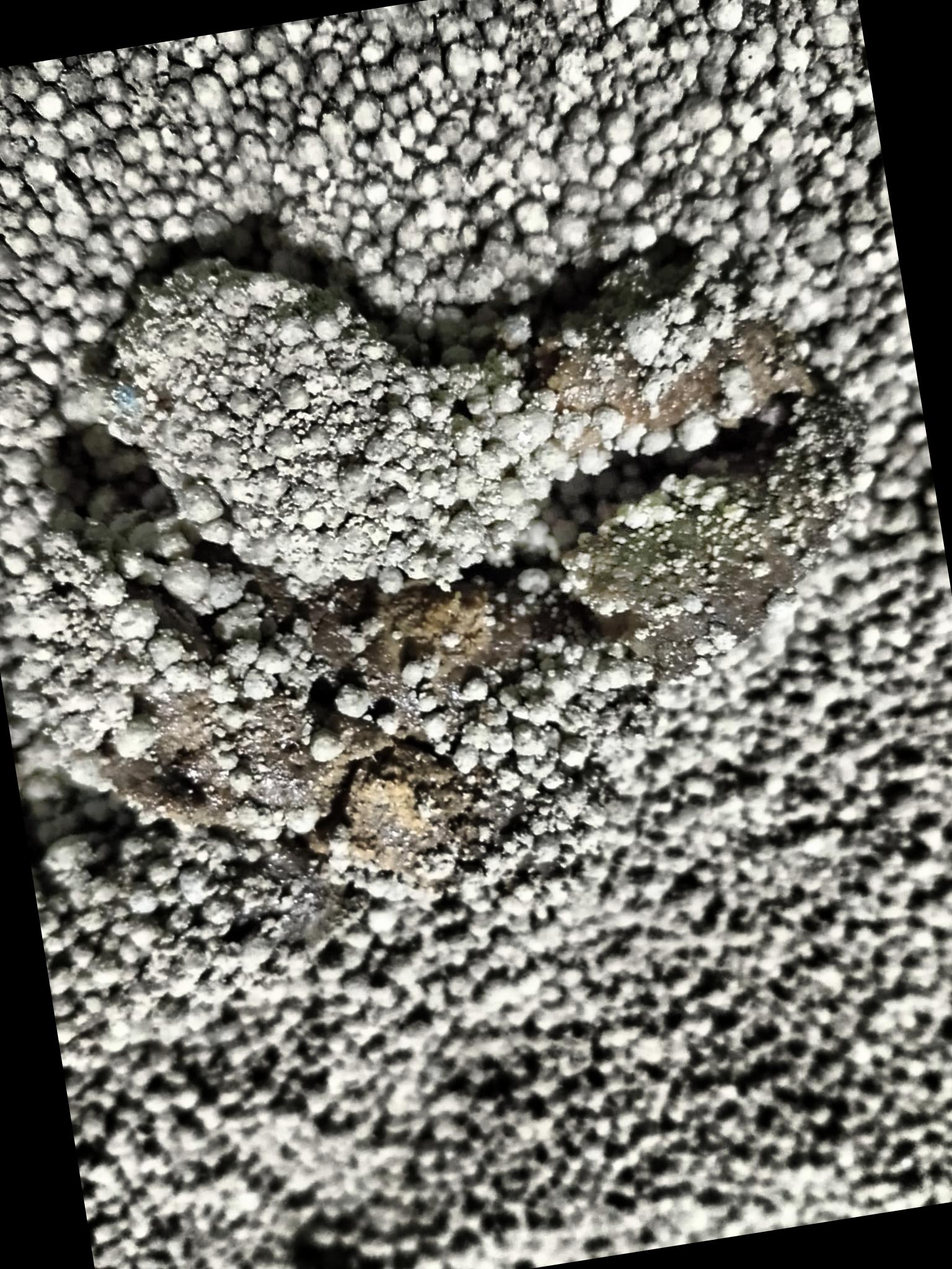poop: (15, 261, 869, 937)
